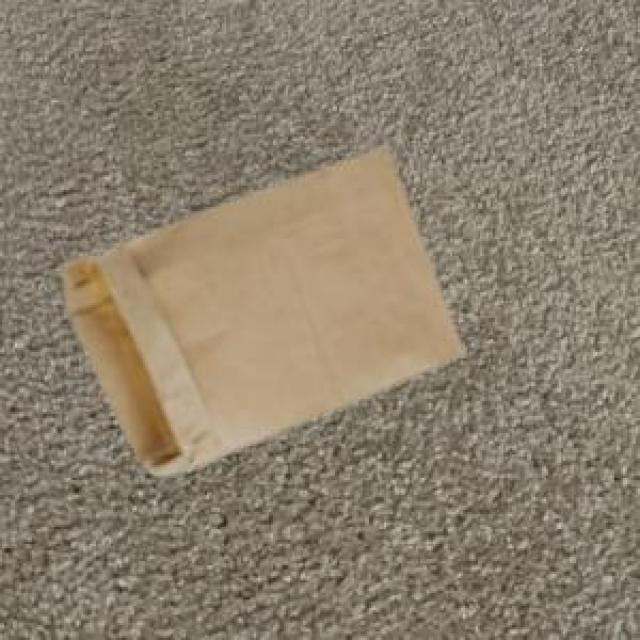Paper -Biodegradable-: (61, 143, 468, 479)
